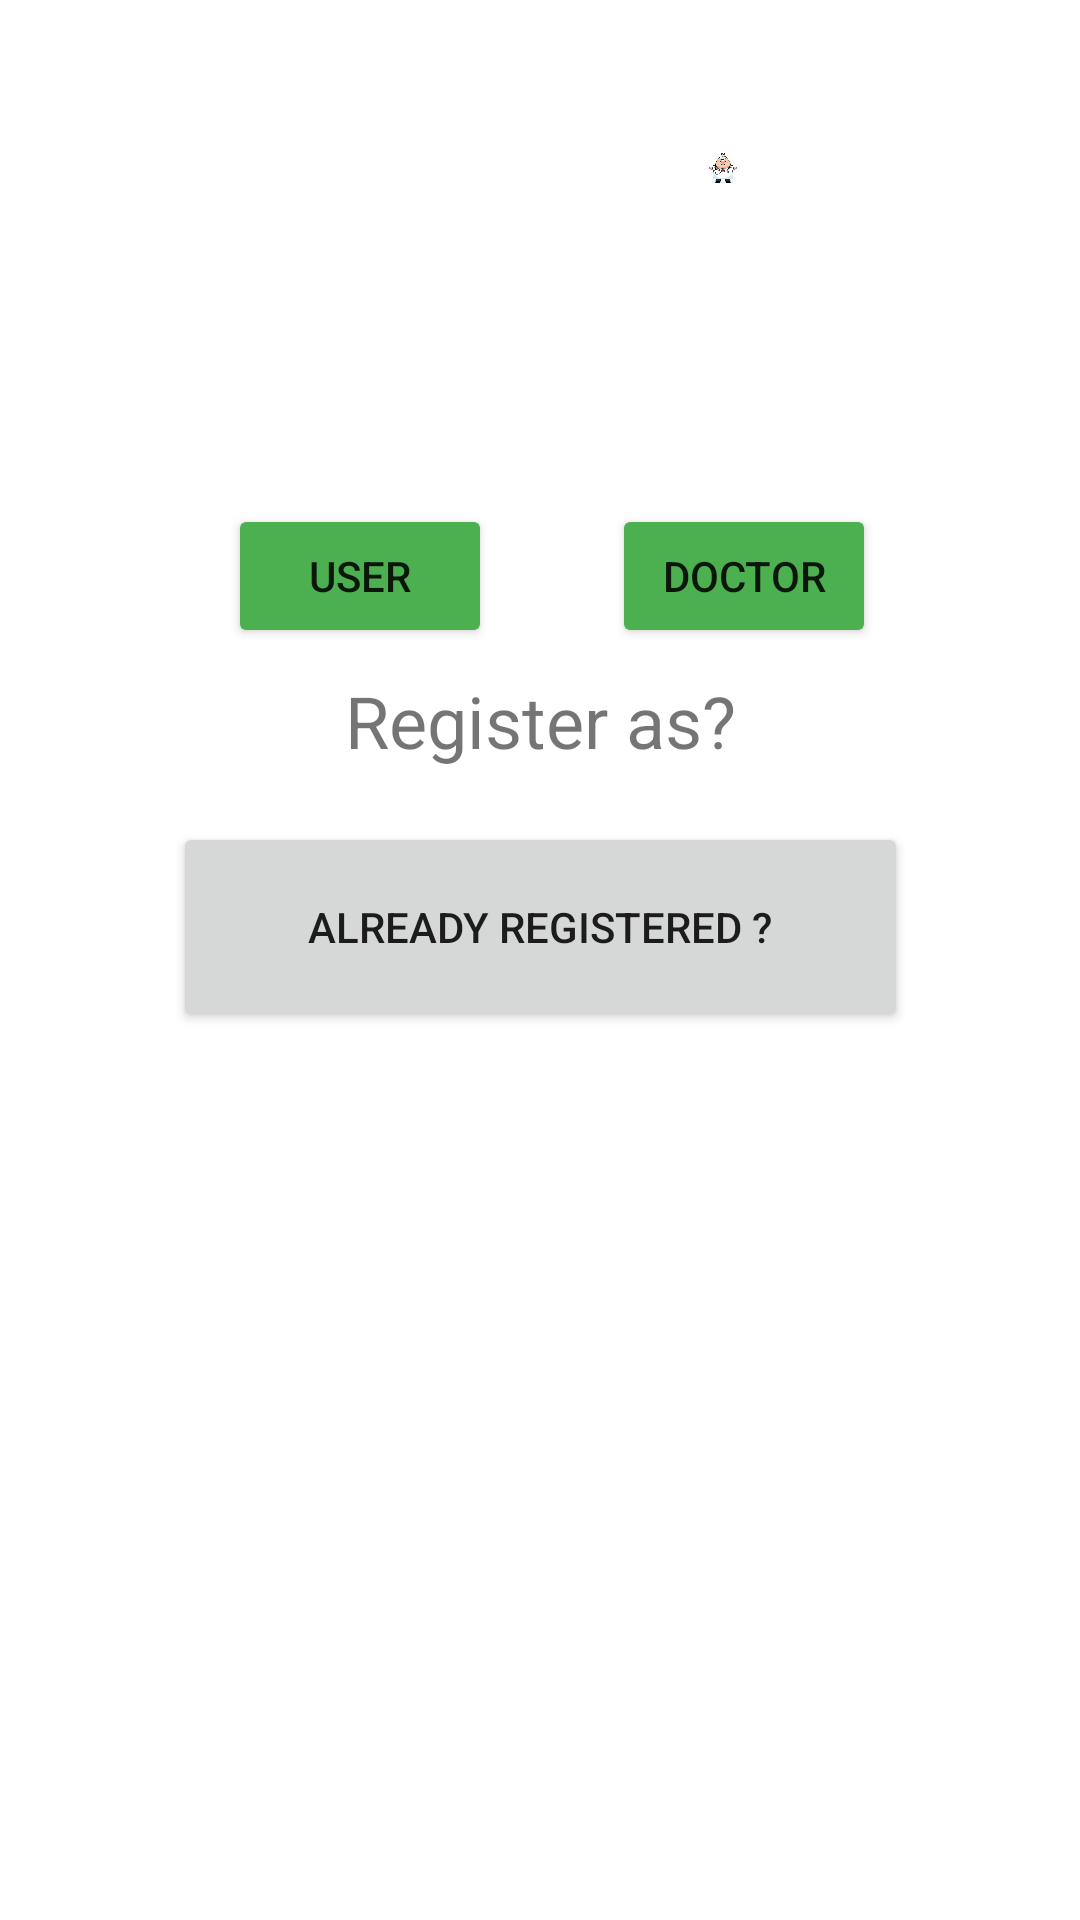

Icon click points for this 1080×1920 phone screenshot, format [x,y]:
doctor: [723,168]
